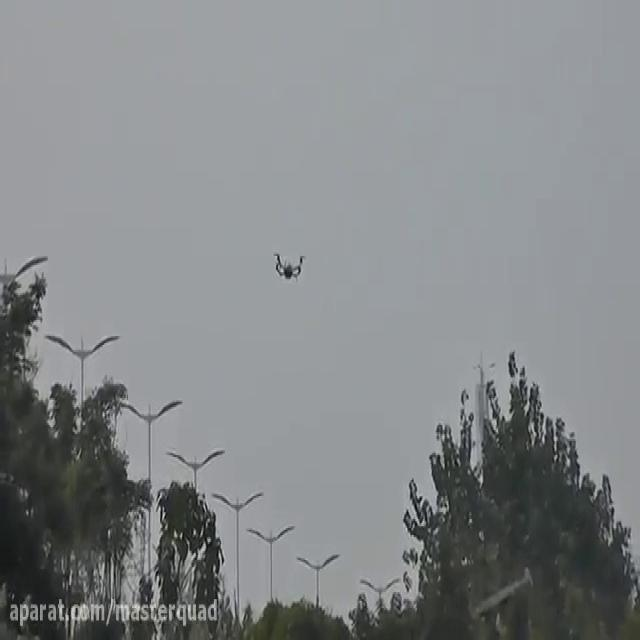drone: (270, 245, 308, 281)
